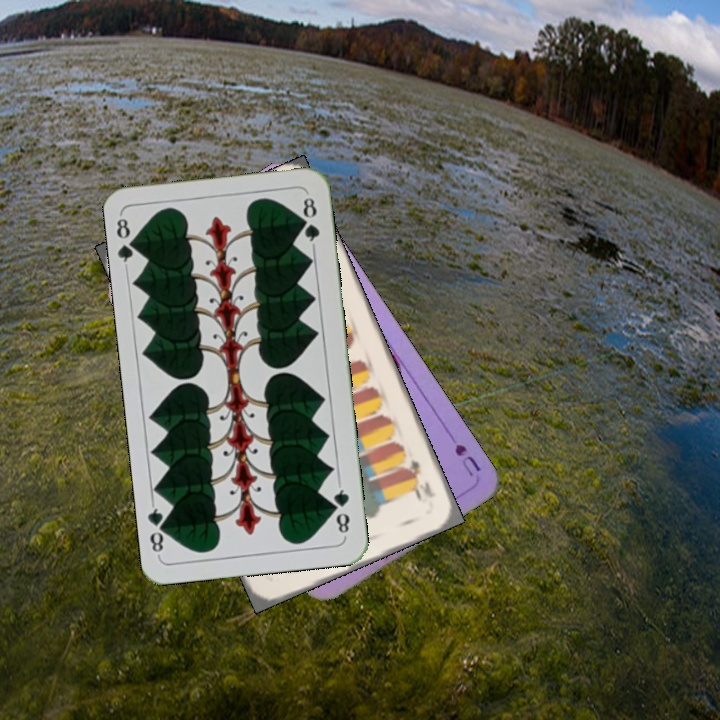E10: (403, 455, 438, 502)
G8: (112, 211, 142, 271), (328, 480, 352, 539)
SU: (450, 439, 484, 480)
